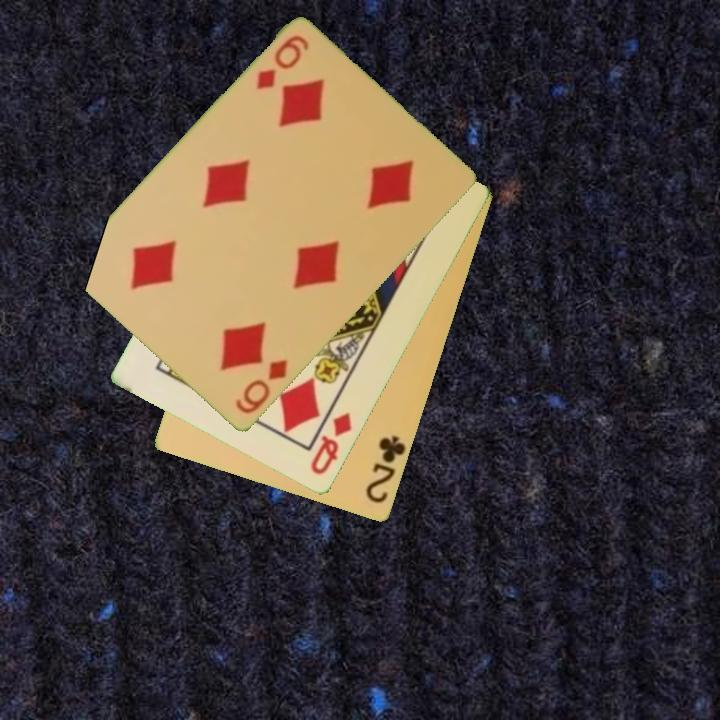2c: (362, 432, 409, 507)
6d: (231, 356, 291, 418), (252, 32, 312, 94)
Qd: (307, 409, 355, 479)
